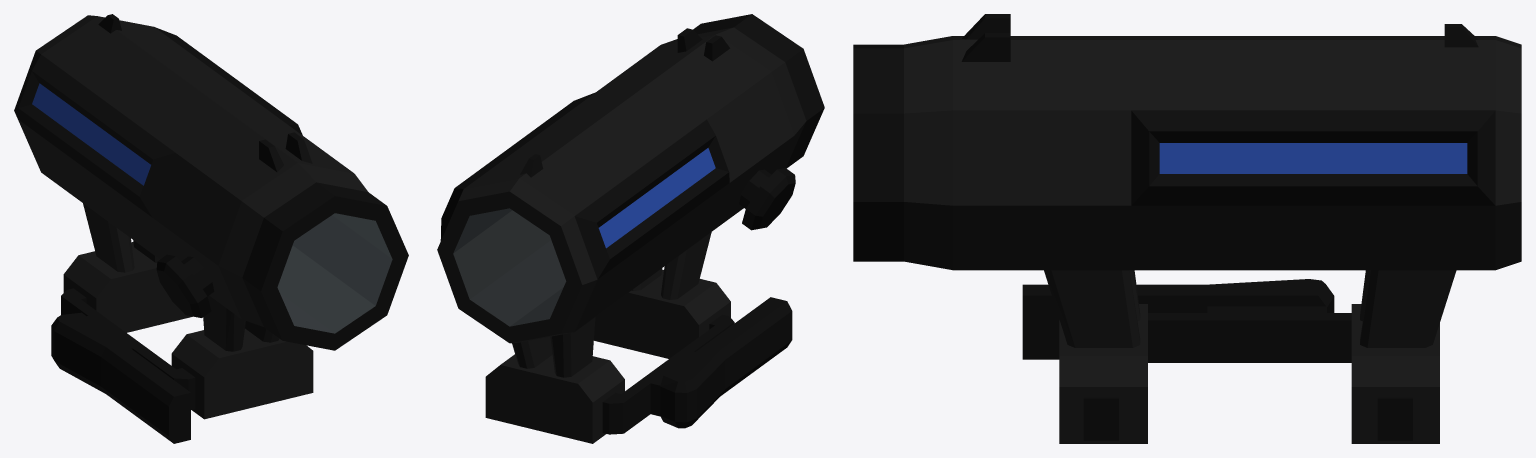
The model's file is acog.glb.
3 renders of one model, left to right at view 1: azimuth 30°, elevation 25°; view 2: azimuth 150°, elevation 25°; view 3: azimuth 270°, elevation 25°, orthographic. The views are drawn at different scales.
Parts seen in each view (by area): view 1: acog-malha; view 2: acog-malha; view 3: acog-malha.
Boxes of the visible parts, x1,y1,x2,y2 form: acog-malha: [14, 14, 408, 443]; acog-malha: [437, 14, 824, 443]; acog-malha: [853, 14, 1521, 443].
Size of the model in its own units: 0.0539 by 0.0746 by 0.1166.
